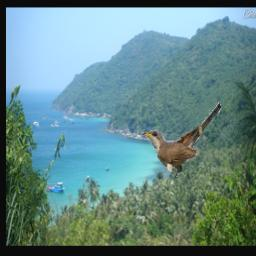Cuckoo: (141, 102, 221, 179)
